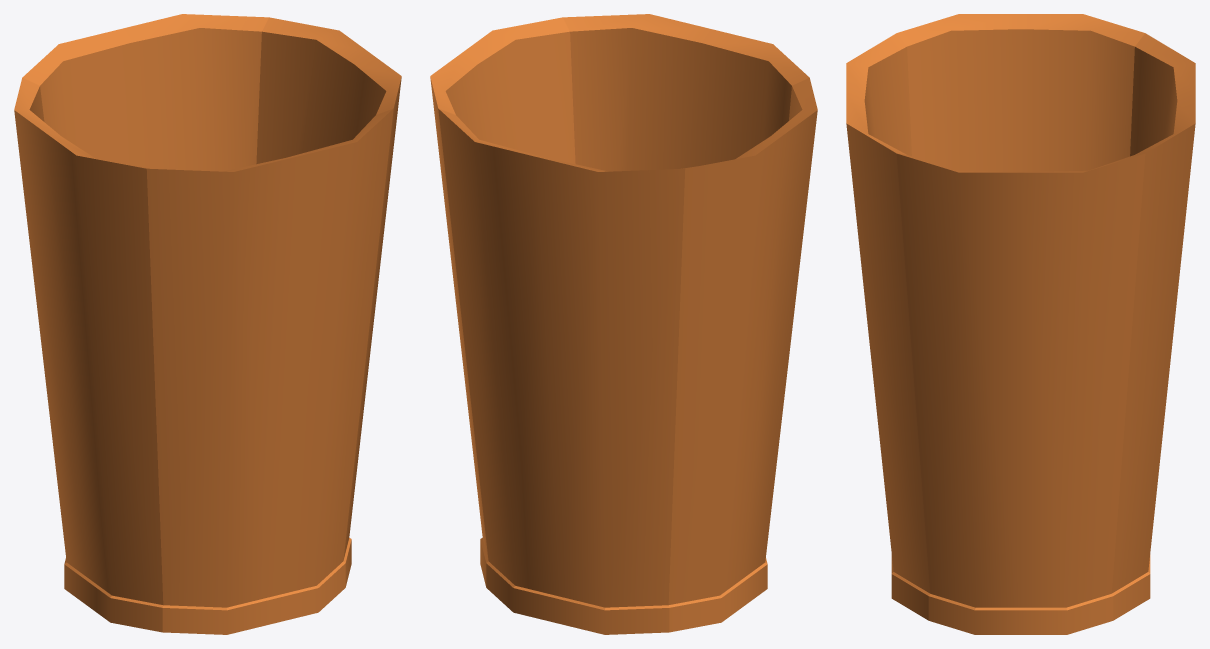
File: MetalCup_mesh.fbx
The picture shows the model from 3 angles, left to right: view 1: azimuth 30°, elevation 25°; view 2: azimuth 150°, elevation 25°; view 3: azimuth 270°, elevation 25°; orthographic projection.
Parts seen in each view (by area): view 1: MetalCup_mesh; view 2: MetalCup_mesh; view 3: MetalCup_mesh.
Boxes of the visible parts, bbox=[...] form: MetalCup_mesh: bbox=[14, 14, 401, 634]; MetalCup_mesh: bbox=[430, 14, 817, 634]; MetalCup_mesh: bbox=[846, 14, 1195, 634].
Bounding box in the file's own units: 45.52 × 64.62 × 42.36.
